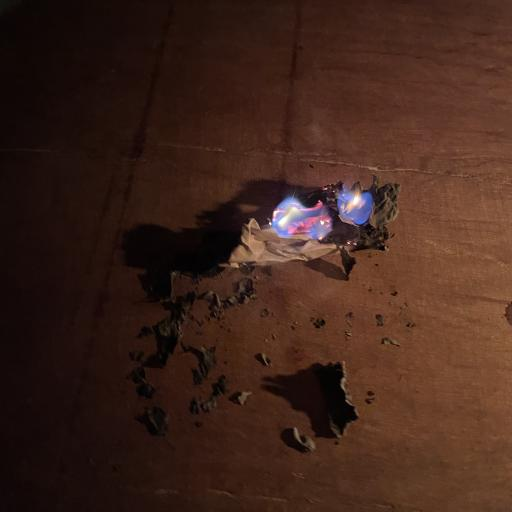fire: (250, 177, 388, 257)
